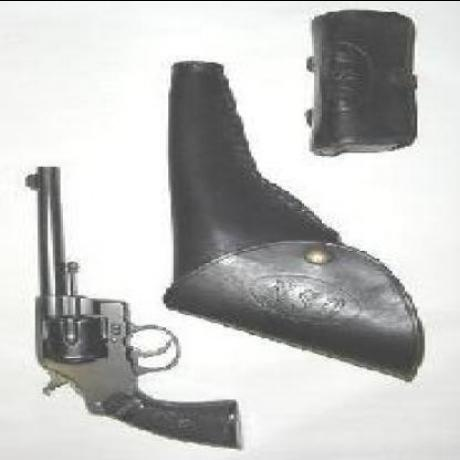weapon: (23, 162, 249, 448)
